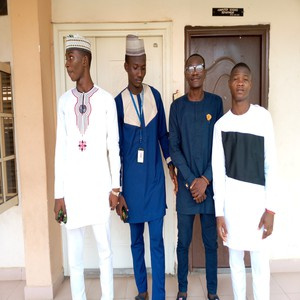Fulokoja_male_student: (50, 34, 121, 300), (217, 63, 283, 300), (169, 46, 223, 300), (120, 33, 166, 300)
